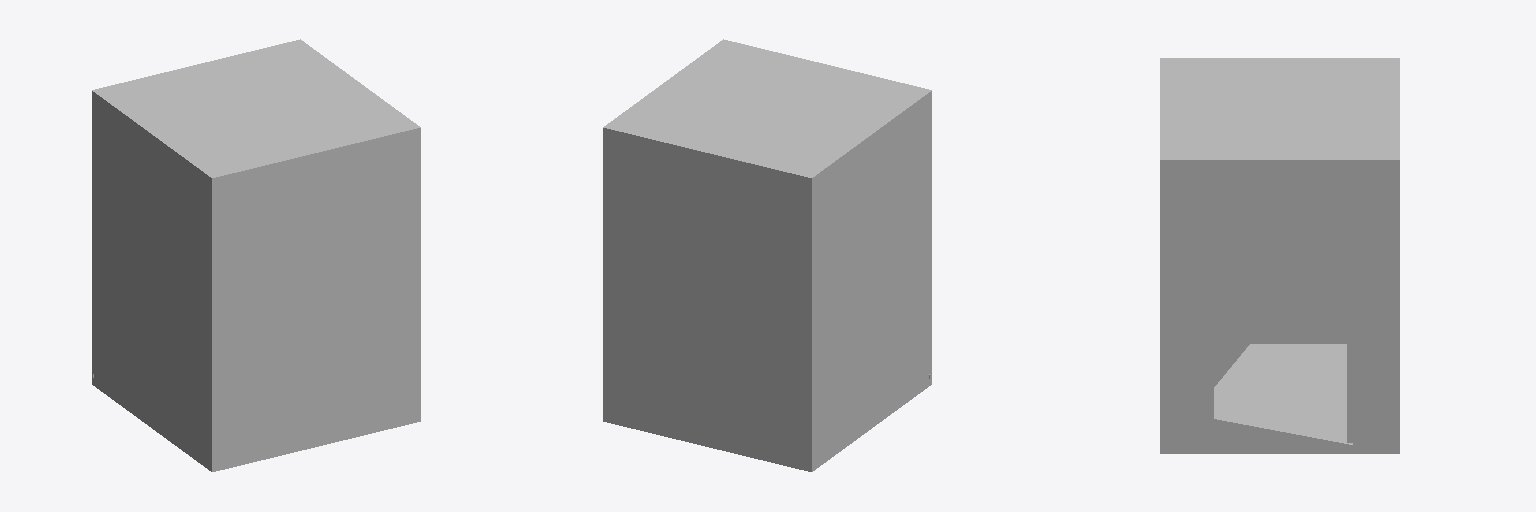
File: aufzug_joined.obj
3 views of the same model, side by side, from view 1: azimuth 30°, elevation 25°; view 2: azimuth 150°, elevation 25°; view 3: azimuth 270°, elevation 25° (orthographic).
Parts seen in each view (by area): view 1: aufzug_Cube.002; view 2: aufzug_Cube.002; view 3: aufzug_Cube.002.
Boxes of the visible parts, box(x1,y1,x2,y2) form: aufzug_Cube.002: box(92, 39, 420, 471); aufzug_Cube.002: box(603, 39, 931, 471); aufzug_Cube.002: box(1160, 58, 1399, 453).
Bounding box in the file's own units: 1.94 × 2.6 × 1.93.